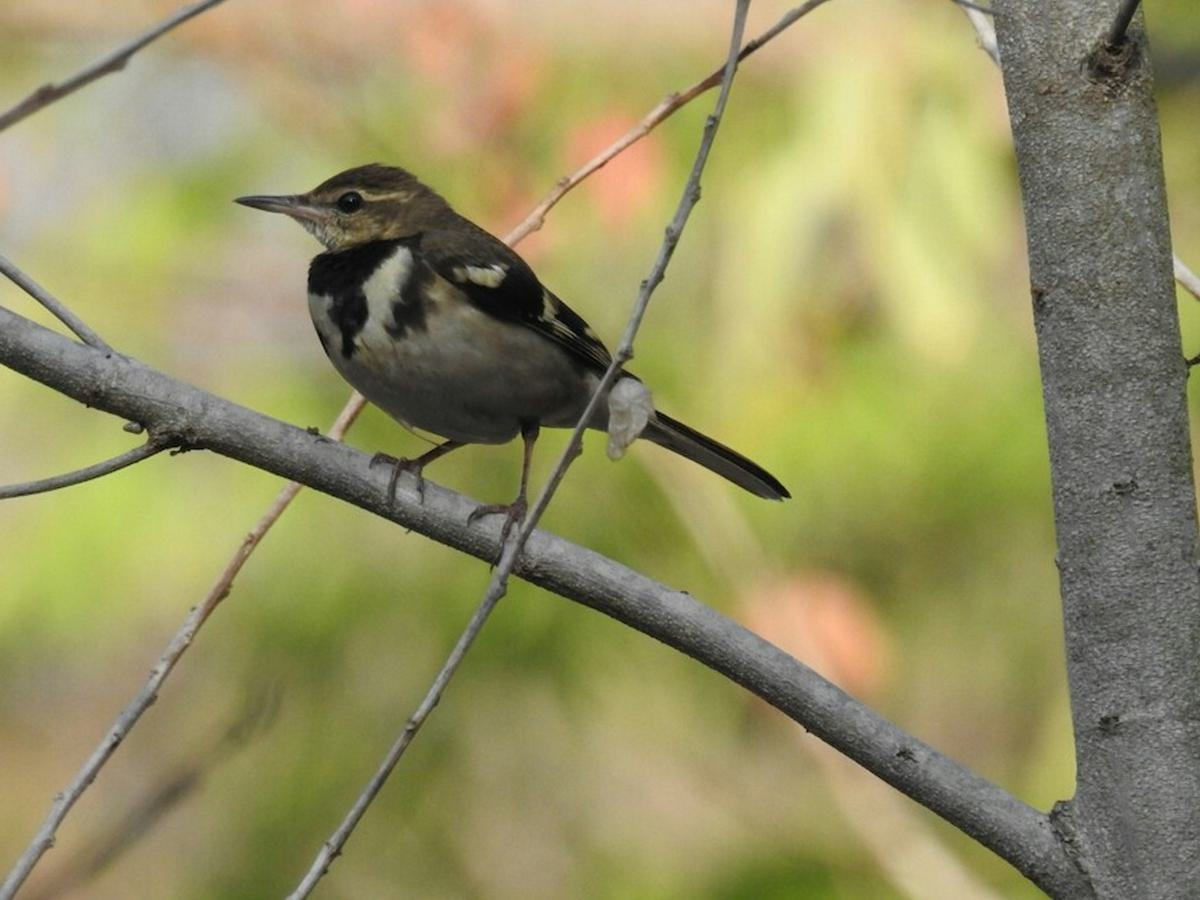wagtail: (247, 137, 790, 573)
